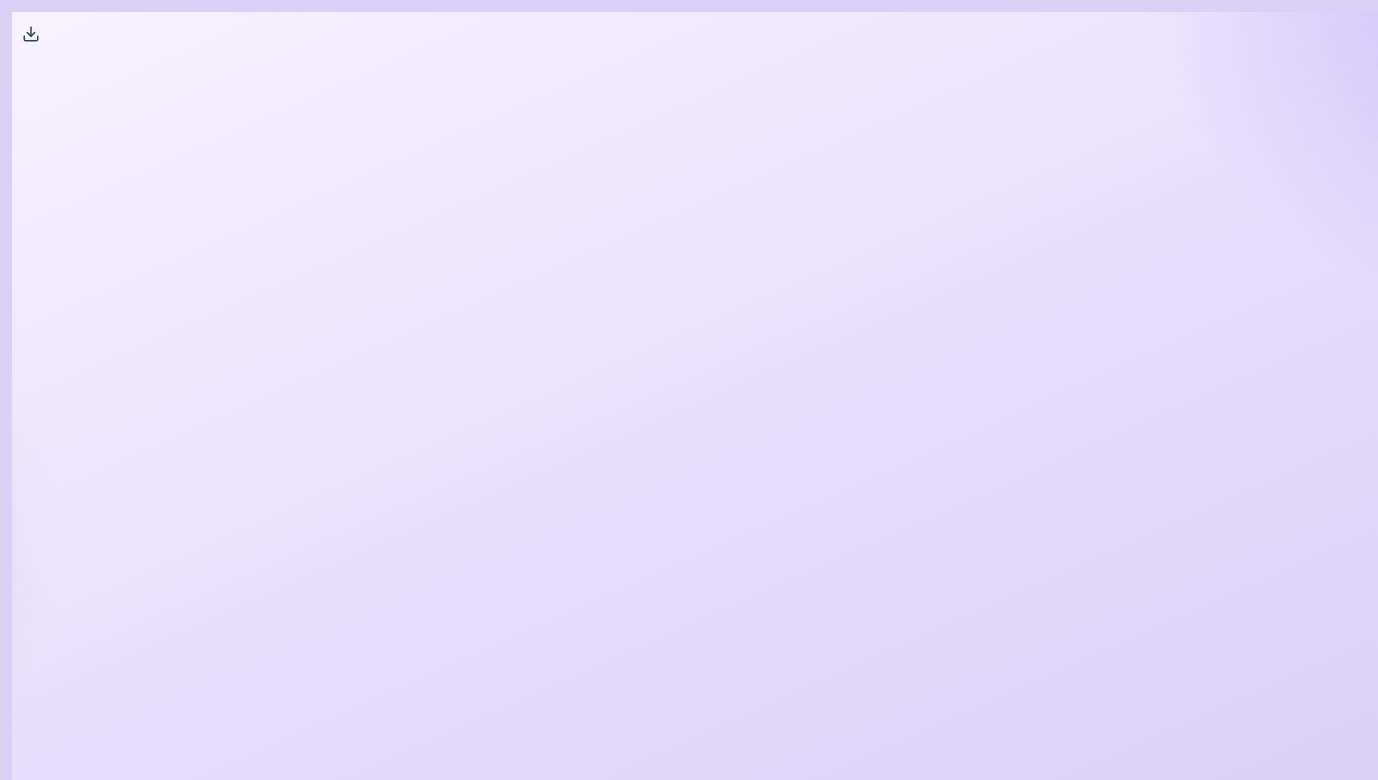
Scenario: InstallButton › shows the Add to Home Screen steps on iPhone
Click the button named "Install app": (31, 34) [12, 12, 50, 56]
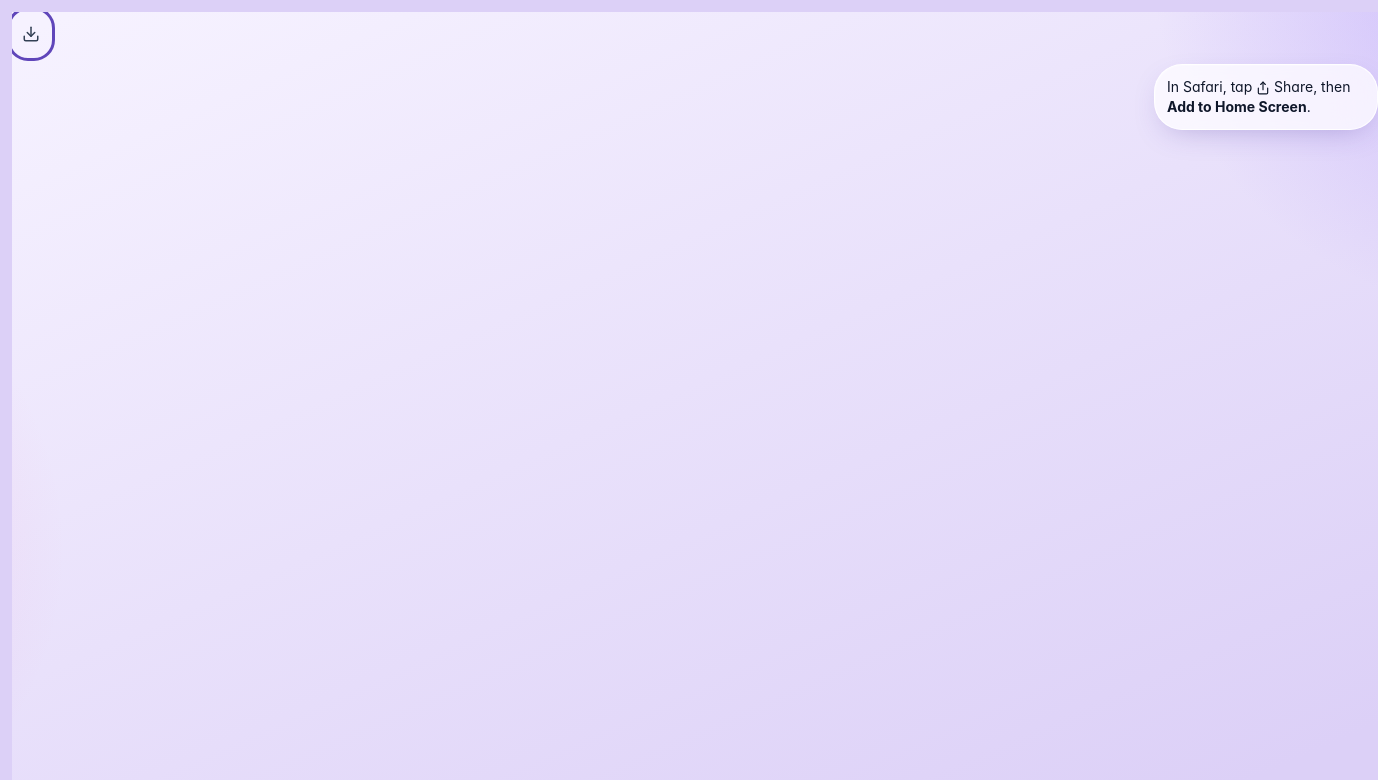
Now the message shows "Add to Home Screen", box [1167, 98, 1307, 115]
